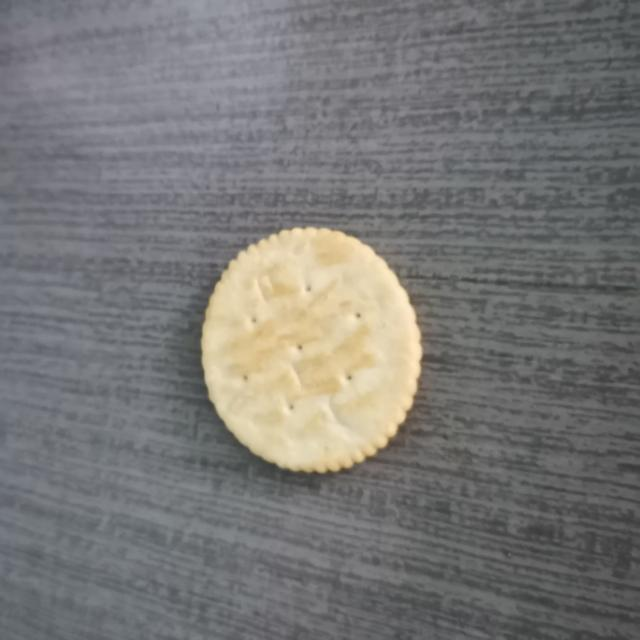Intact: (195, 220, 435, 489)
